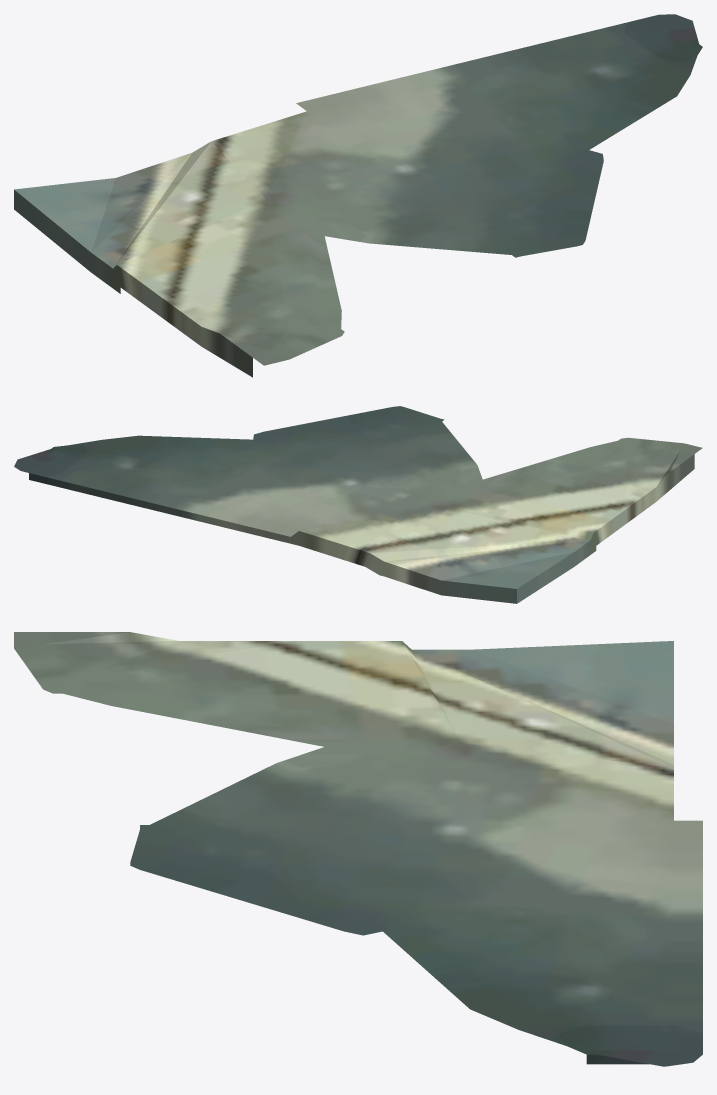
The model's file is BuildingMesh-00082.gltf.
3 views of the same model, one above another, from view 1: azimuth 30°, elevation 25°; view 2: azimuth 150°, elevation 25°; view 3: azimuth 270°, elevation 25° (orthographic). The views are drawn at different scales.
Visible parts, largest first — view 1: BuildingMesh-00082; view 2: BuildingMesh-00082; view 3: BuildingMesh-00082.
Part boxes in pixels (x1=…): BuildingMesh-00082: x1=14, y1=14, x2=702, y2=377; BuildingMesh-00082: x1=14, y1=406, x2=702, y2=603; BuildingMesh-00082: x1=14, y1=632, x2=702, y2=1066.
Size of the model in its own units: 0.4157 by 0.0235 by 0.2784.
Materials: 1 (1 with a texture image).
